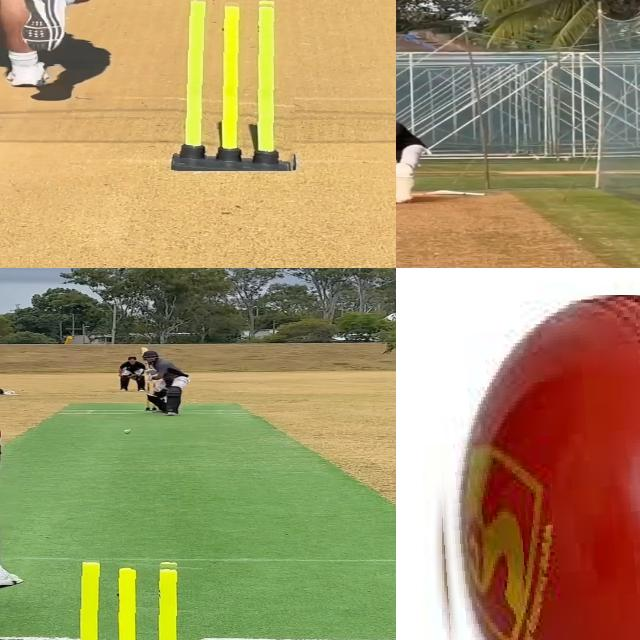Cricket ball: (426, 295, 640, 640), (122, 429, 135, 435)
Stumps: (174, 0, 298, 171), (62, 557, 203, 640)
